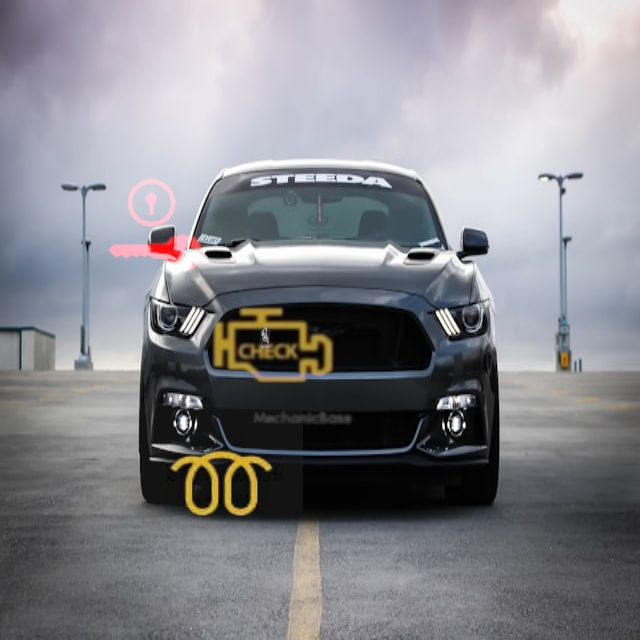symbol: (186, 260, 358, 432), (140, 403, 303, 566), (89, 160, 221, 292)
